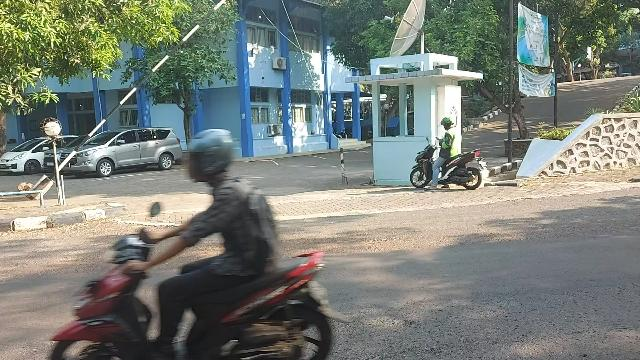helm: (189, 130, 233, 182), (442, 118, 456, 131)
motor: (52, 204, 350, 360), (411, 138, 489, 191)
